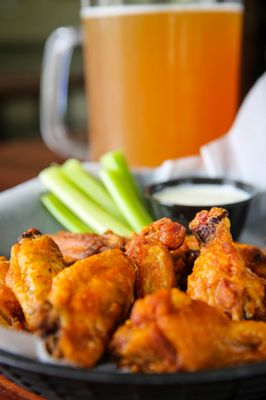pizza: (37, 1, 245, 175)
